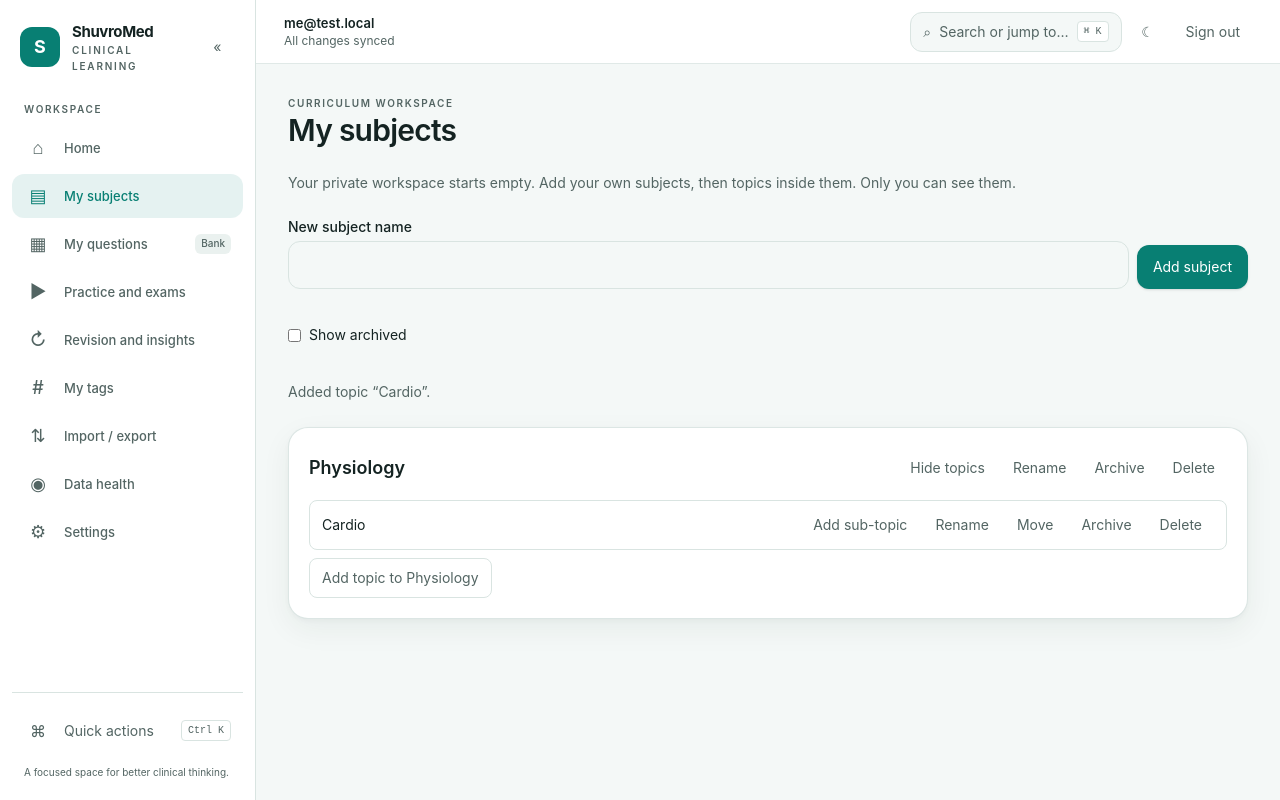
Test: My subjects page › builds nested topics, moves one, and refuses to delete a subject that has content
Earlier steps of the test are not shown.
Expected: the text "Cardio" is shown, [322,516,366,533]
Click the button with aria-label "Add sub-topic to Cardio": (860, 525) [801,505,919,545]
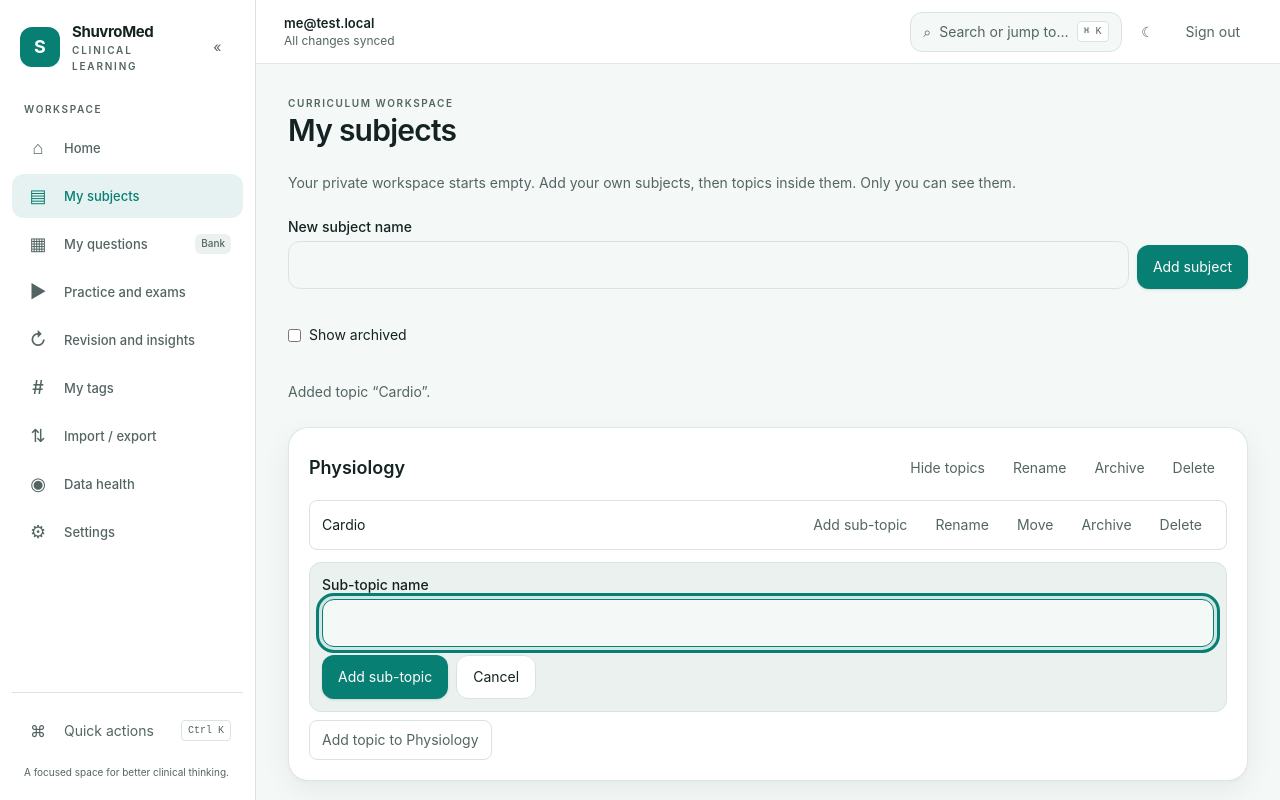
In the field labelled "Sub-topic name": (768, 623) [322,599,1214,647], type "Heart"
Click the button "Add sub-topic" below "Sub-topic name": (385, 677) [322,655,448,699]
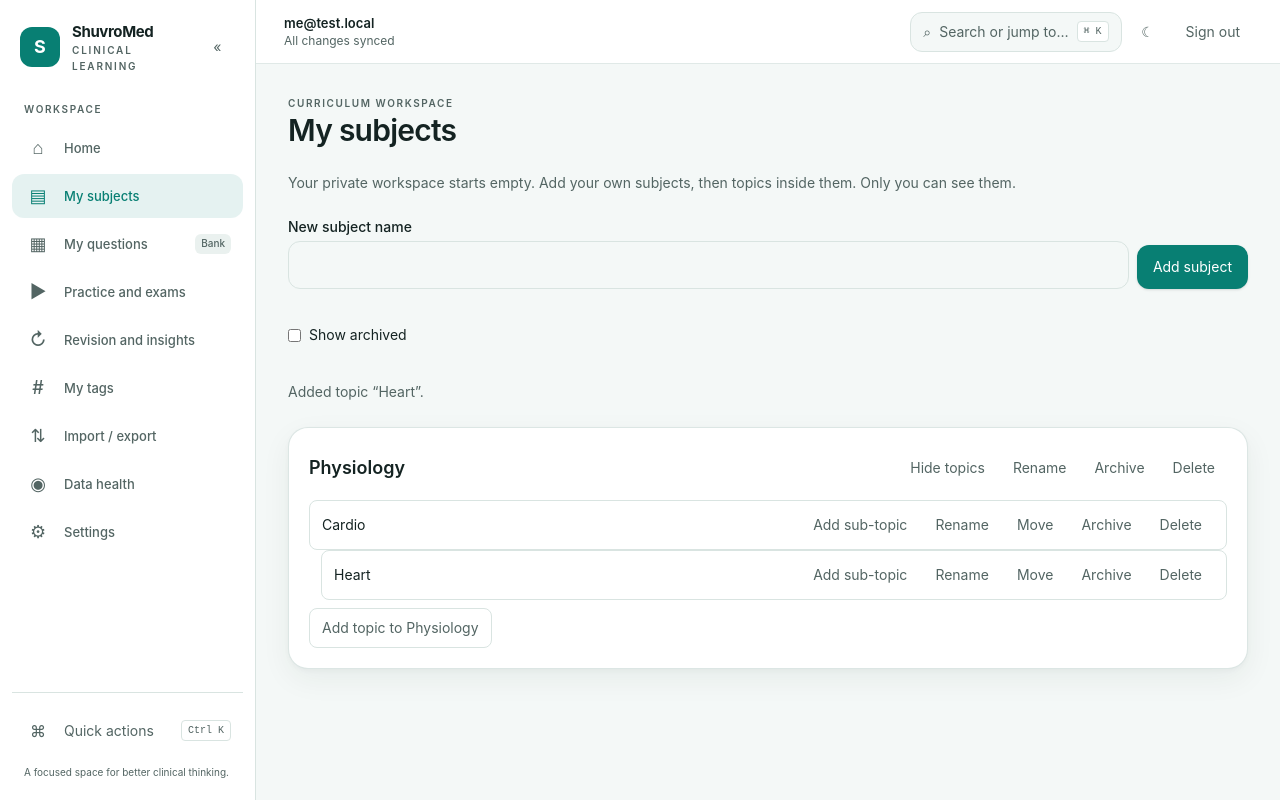
Expected: the text "Heart" is shown, [334,566,371,583]
Click the button with aria-label "Move Heart": (1035, 575) [1005,555,1065,595]
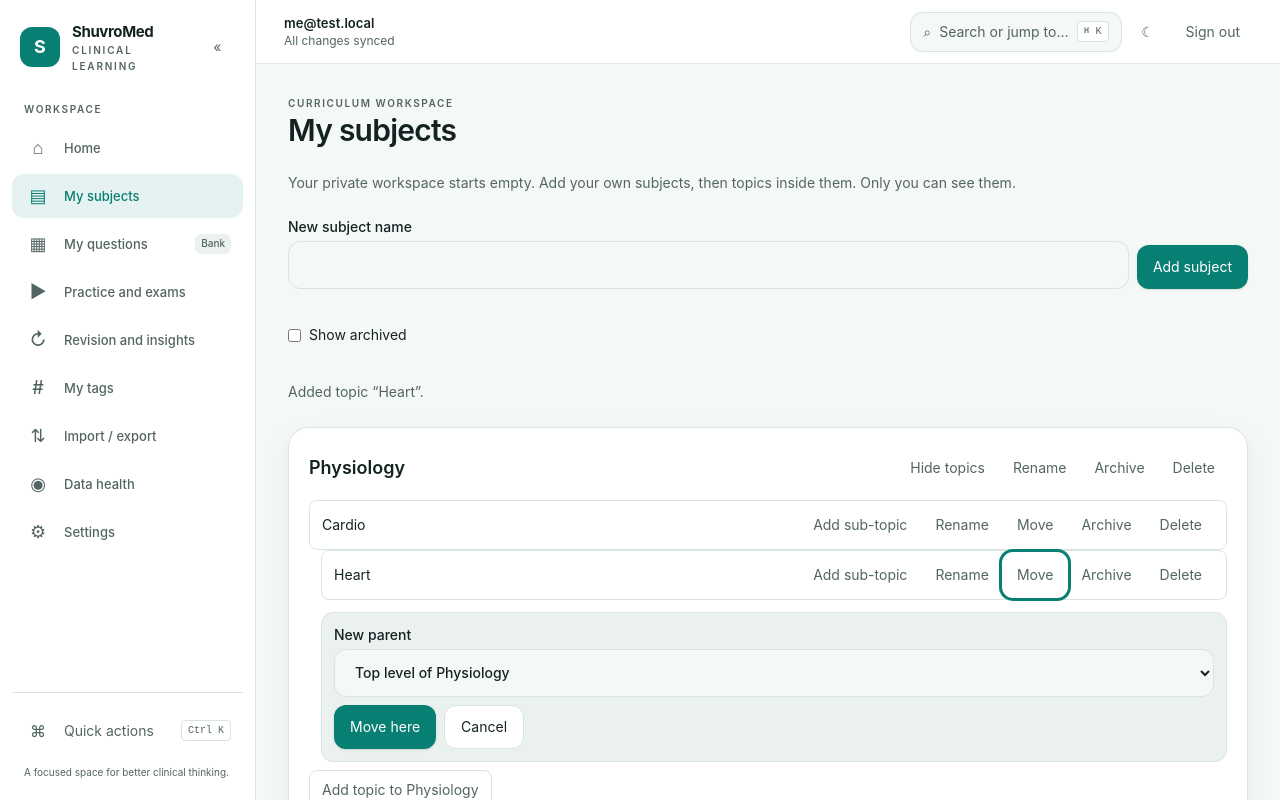
Click the button "Move here": (385, 727) [334,705,436,749]
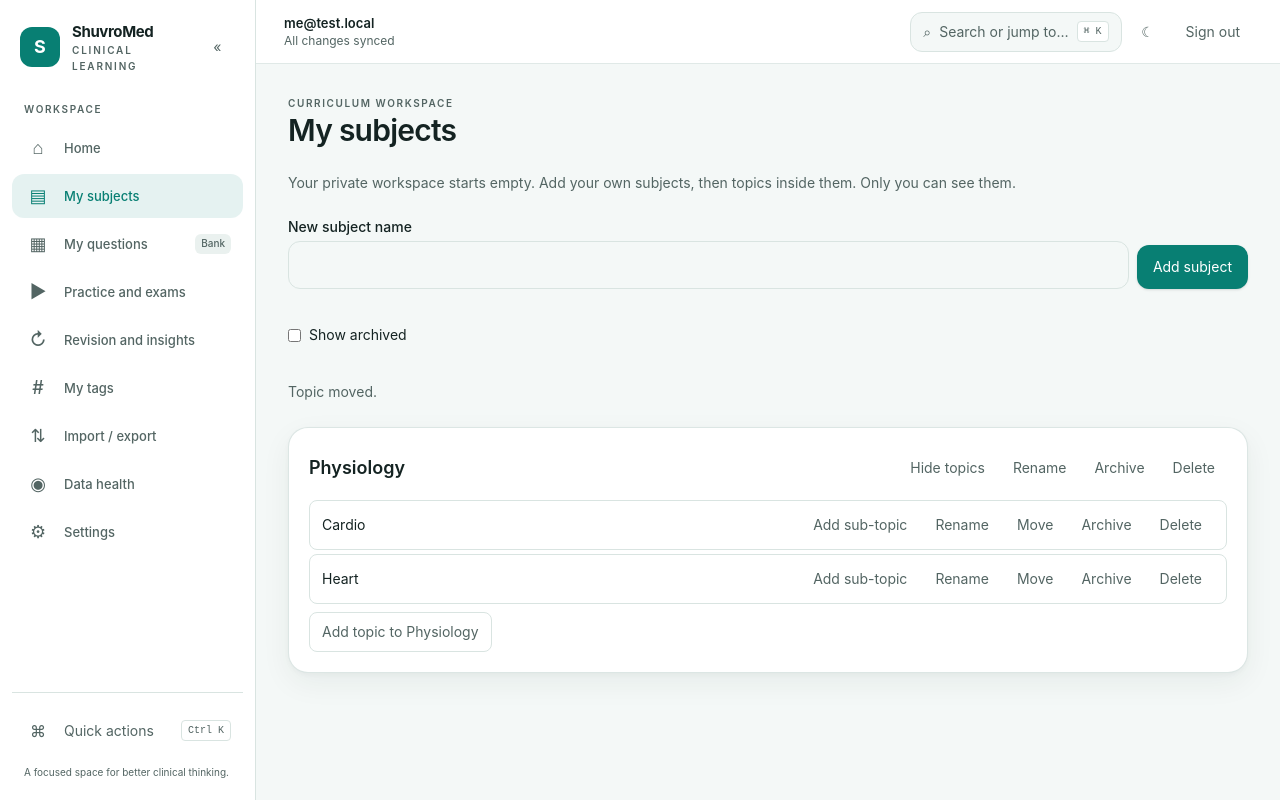
Click the button with aria-label "Delete Physiology": (1194, 468) [1161,448,1227,488]
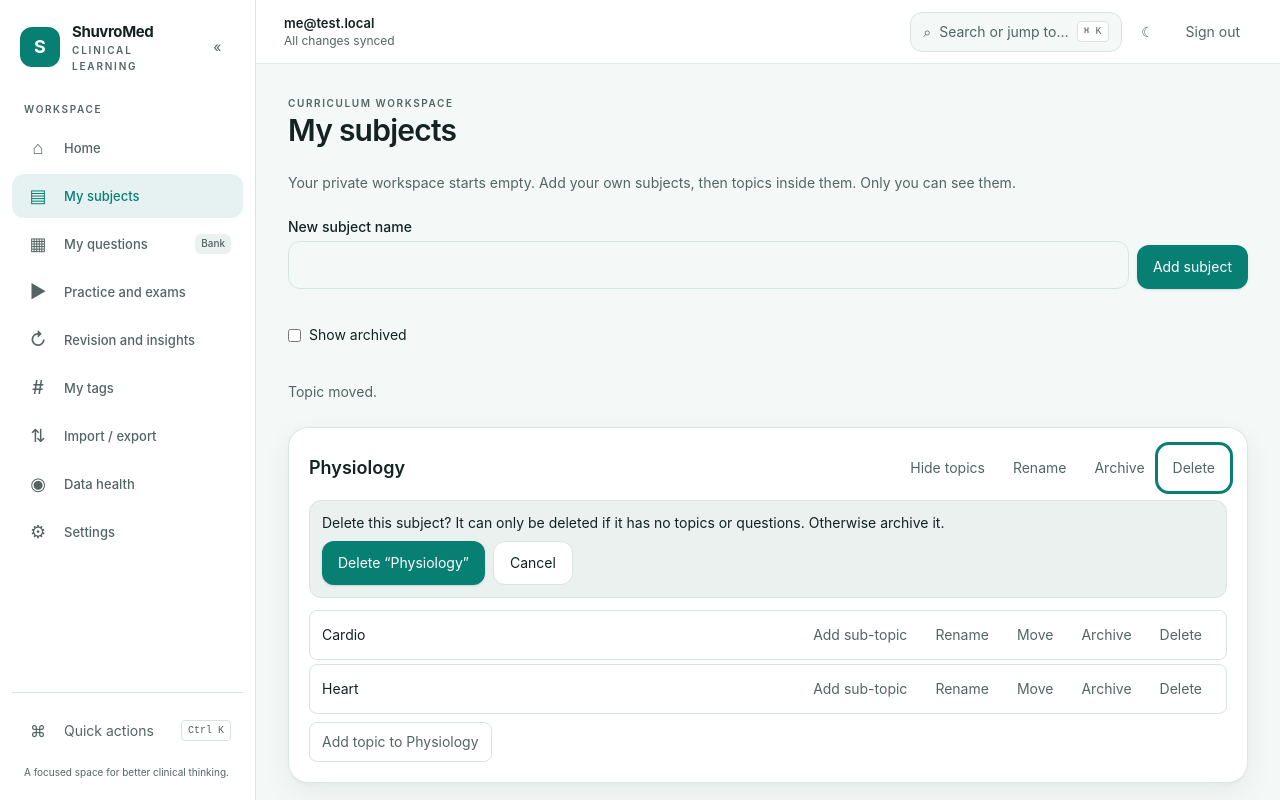
Click the button "Delete “Physiology”": (404, 563) [322,541,485,585]
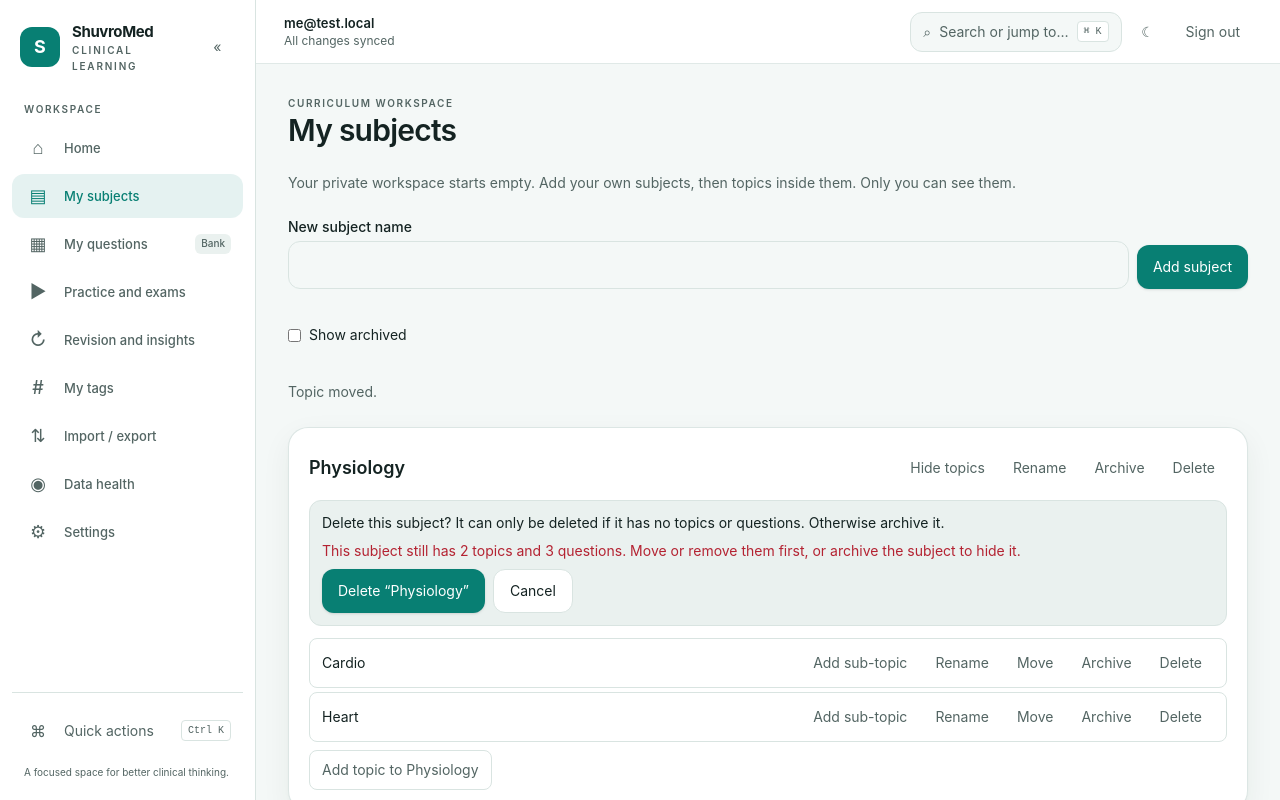
Expected: the 3rd message shows "2 topics and 3 questions", [322,542,1021,559]
